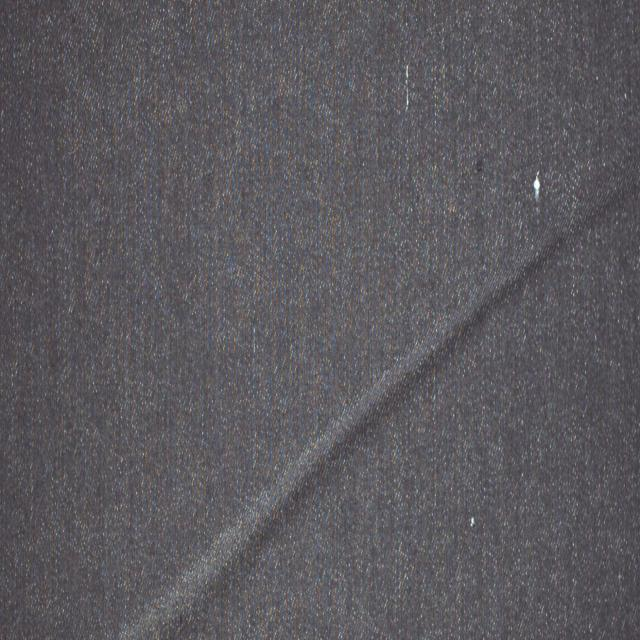Knot: (534, 171, 540, 202)
